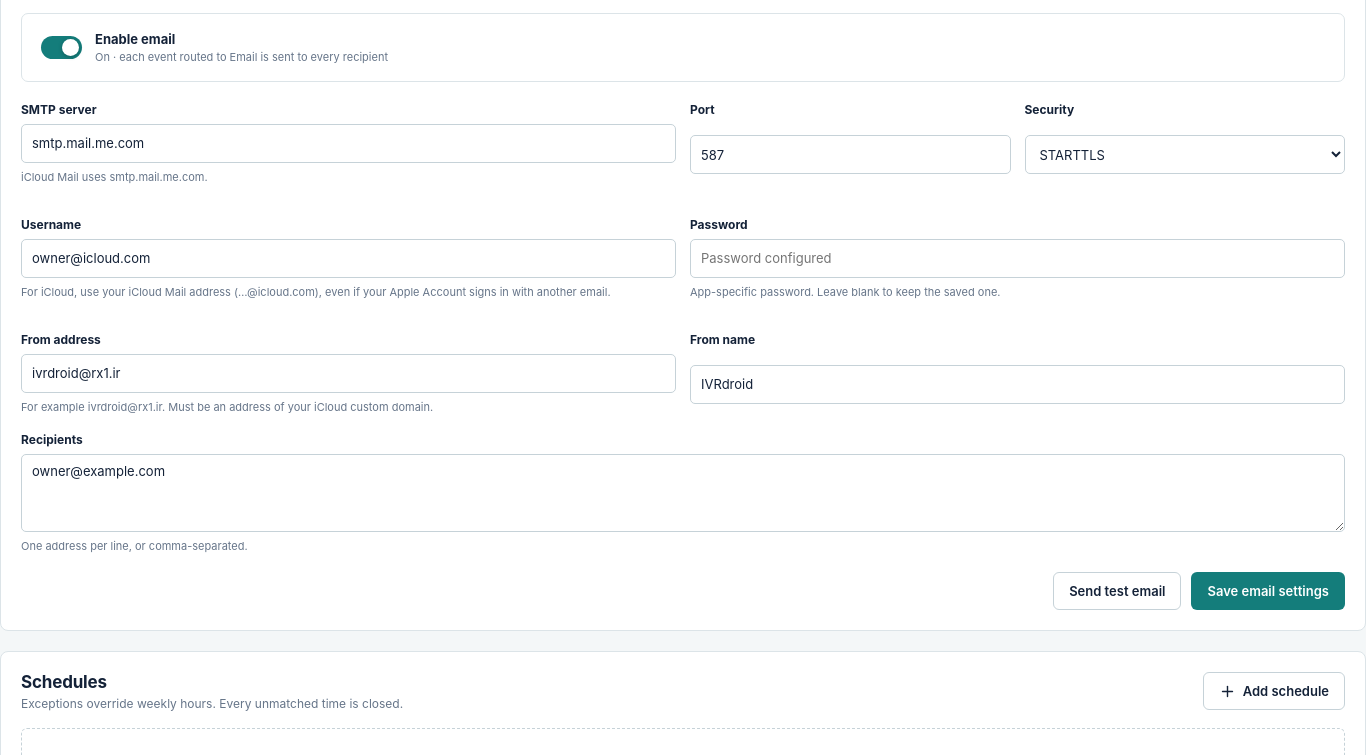
Scenario: email settings › requires saving before a test email
This screenshot has width=1366, height=755.
(page scrolled)
Check: the button "Send test email" is enabled, box [1053,572,1181,610]
Check: the text "Save before testing" is not shown
Replace the text in the field labelled "From name" with "Front desk" at (1018, 384), box [690,365,1345,404]
(page scrolled)
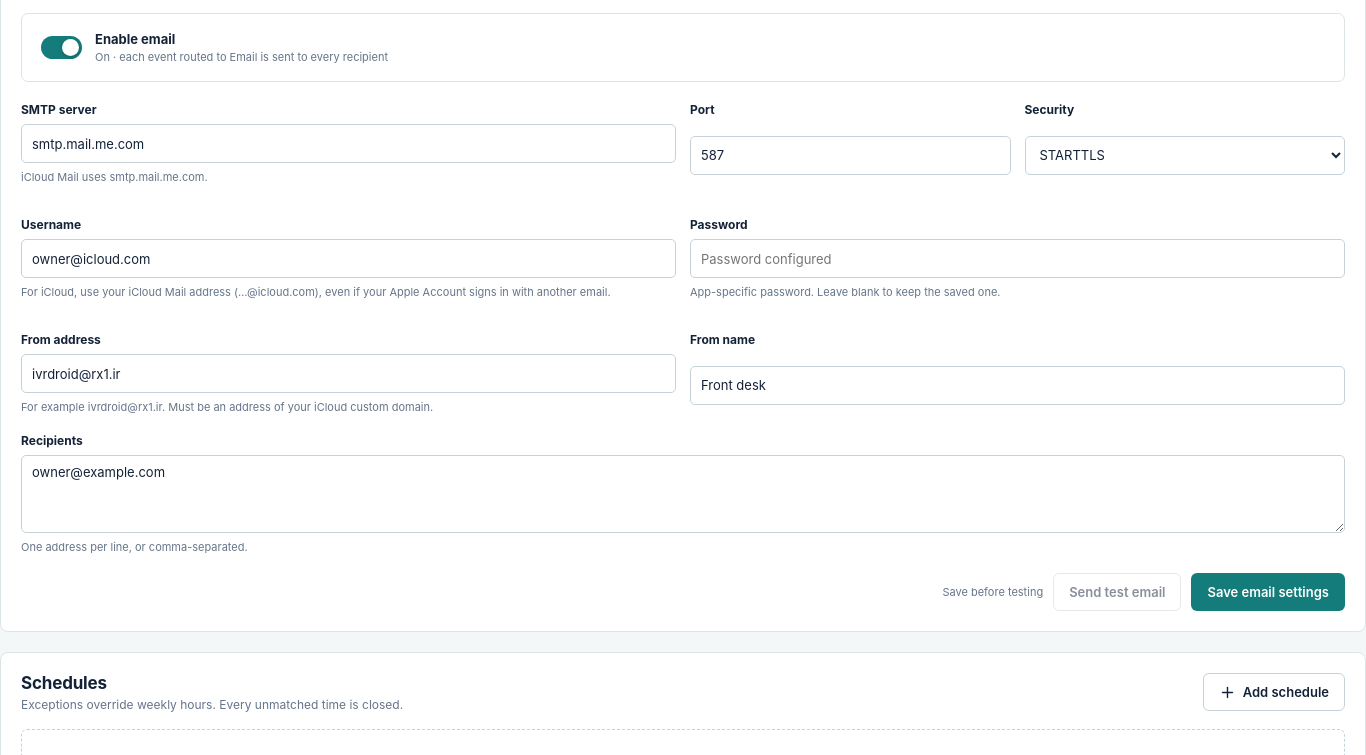
Check: the button "Send test email" is disabled, box [1053,573,1181,611]
Check: the text "Save before testing" is shown, box [942,585,1043,599]
Replace the text in the field labelled "From name" with "IVRdroid" at (1018, 385), box [690,366,1345,405]
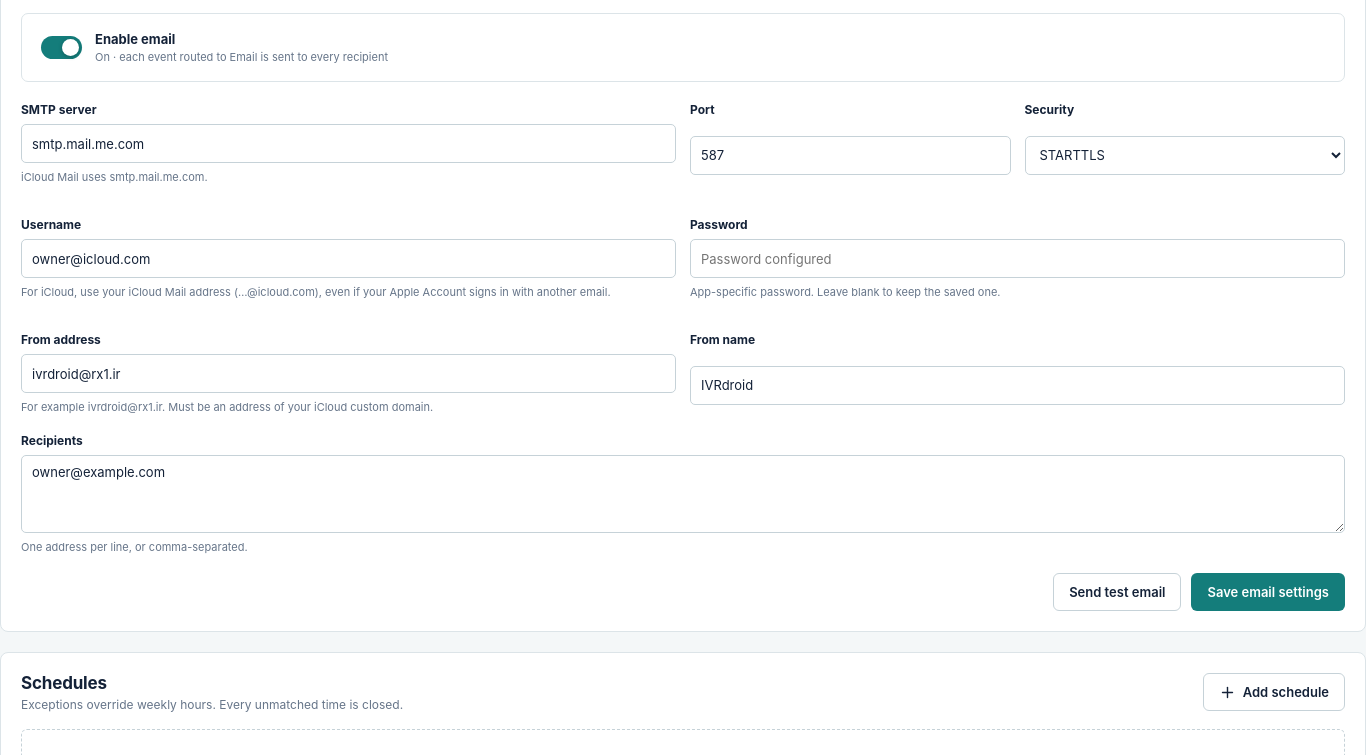
Check: the button "Send test email" is enabled, box [1053,573,1181,611]
